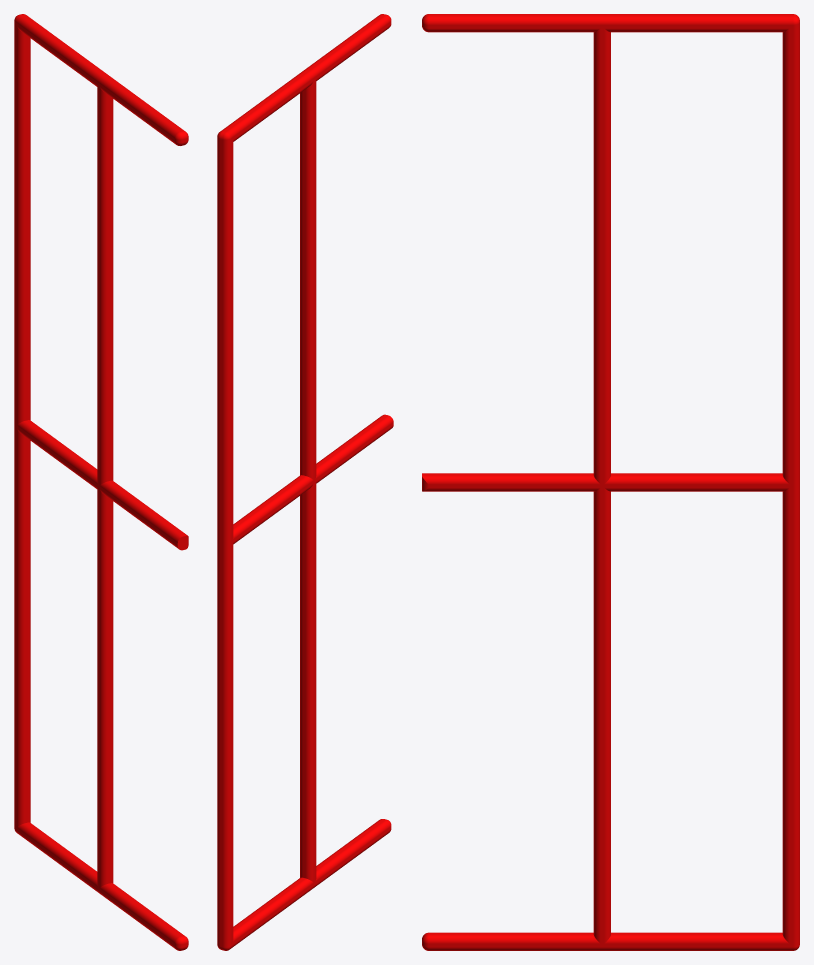
File: barrière.glb
3 renders of one model, left to right at view 1: azimuth 30°, elevation 25°; view 2: azimuth 150°, elevation 25°; view 3: azimuth 270°, elevation 25°, orthographic. The views are drawn at different scales.
Visible parts, largest first — view 1: Part 2__Part 2; view 2: Part 2__Part 2; view 3: Part 2__Part 2.
Boxes of the visible parts, x1,y1,x2,y2 form: Part 2__Part 2: [14, 14, 188, 950]; Part 2__Part 2: [217, 14, 393, 950]; Part 2__Part 2: [422, 14, 799, 950].
Size of the model in its own units: 0.05 by 3 by 1.1.
